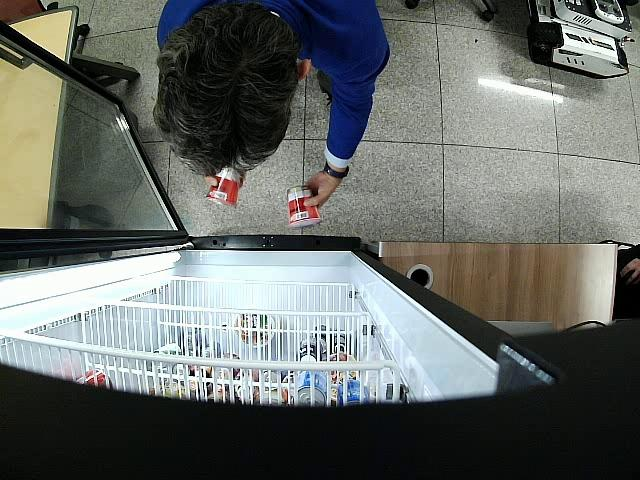00_hand: (302, 172, 336, 210)
02_shinRamen_S: (207, 166, 241, 208), (287, 187, 321, 228)
